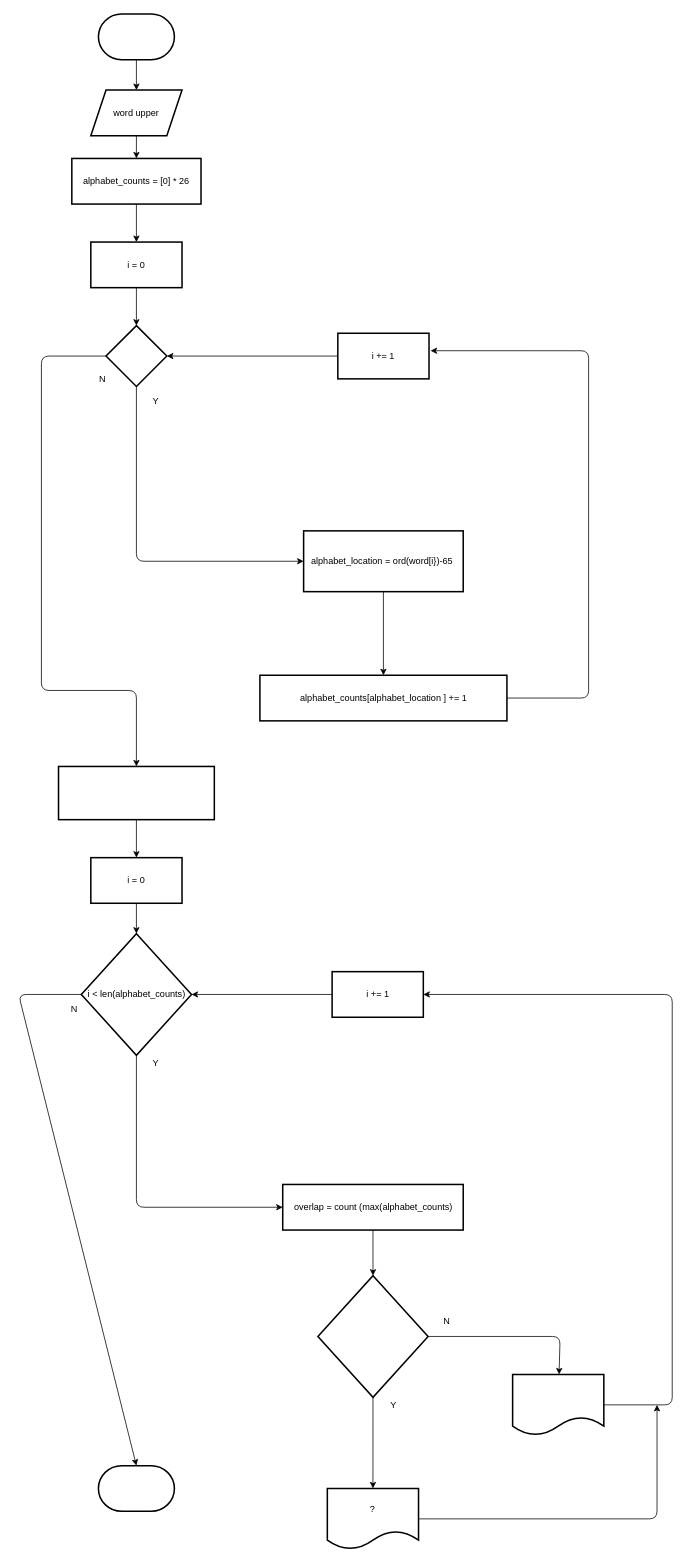
This 692x1563 diagram has some shape labels left out. The centre of each missing label's shape, as x and y in pixels:
finish: the point at 136,1488
highest_n = max(alphabet_counts): the point at 136,792
hightest_n: the point at 557,1404
i < len(word): the point at 136,356
overlap >= 2: the point at 372,1336
start: the point at 136,36
